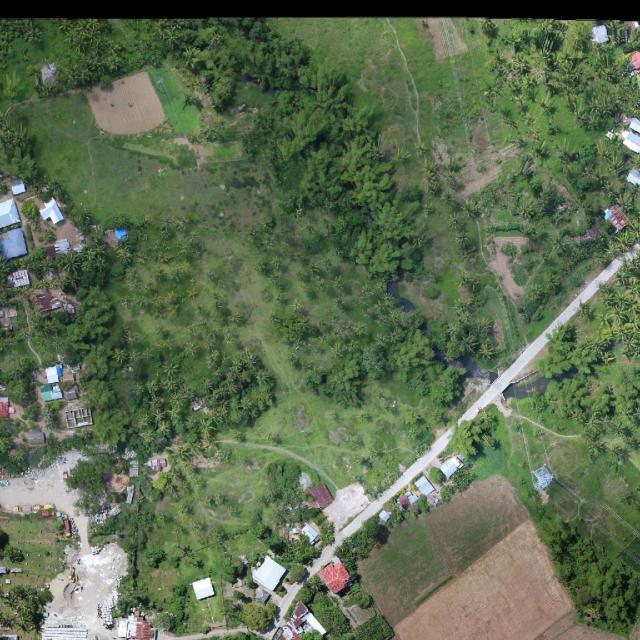agricultural_land: (85, 69, 168, 144)
building: (276, 601, 332, 640), (316, 555, 357, 597), (250, 554, 289, 593), (302, 483, 335, 514), (601, 202, 631, 234), (36, 197, 65, 229), (437, 451, 467, 480), (64, 406, 93, 429), (33, 291, 61, 313), (0, 199, 20, 228), (191, 577, 215, 601), (298, 522, 322, 546), (38, 381, 64, 403), (413, 475, 435, 498), (7, 269, 30, 289), (438, 458, 459, 479), (589, 25, 609, 45), (394, 493, 414, 512), (45, 365, 63, 384), (53, 238, 72, 255), (62, 386, 81, 403), (11, 178, 26, 195), (27, 431, 45, 445), (0, 396, 11, 418), (405, 490, 420, 506), (0, 306, 18, 319), (630, 51, 640, 71), (377, 510, 391, 524), (114, 229, 129, 242), (62, 301, 75, 315)
greenland: (0, 19, 640, 635), (539, 470, 640, 572), (471, 411, 550, 495), (0, 511, 71, 589), (329, 513, 398, 581), (447, 405, 508, 461), (0, 585, 45, 632), (349, 611, 395, 640), (522, 418, 548, 469), (292, 572, 327, 608)
metalled_road: (334, 426, 461, 549), (271, 578, 302, 619), (304, 544, 336, 576)
